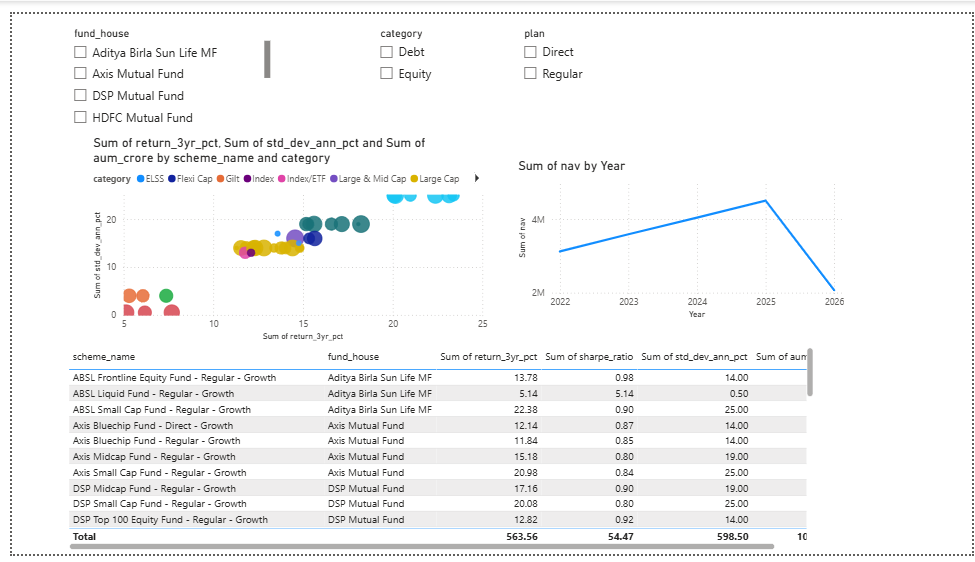

The page's visual inventory and layout, read from the dashboard file:
{"tool":"powerbi","page":{"name":"Fund Performance","canvas":[1280,720],"ordinal":1},"visuals":[{"type":"scatterChart","fields":{"X":["Sum(clean_performance.return_3yr_pct)"],"Y":["Sum(clean_performance.std_dev_ann_pct)"],"Size":["Sum(clean_performance.aum_crore)"],"Category":["clean_performance.scheme_name"],"Series":["clean_performance.category"]},"box":[103.9,161.9,536.1,279.5],"z":0},{"type":"tableEx","fields":{"Values":["clean_performance.scheme_name","clean_performance.fund_house","Sum(clean_performance.return_3yr_pct)","Sum(clean_performance.sharpe_ratio)","Sum(clean_performance.std_dev_ann_pct)","Sum(clean_performance.aum_crore)"]},"box":[70.3,439.9,1003.5,279.5],"z":1000},{"type":"lineChart","fields":{"Category":["clean_nav.date.Variation.Date Hierarchy.Year","clean_nav.date.Variation.Date Hierarchy.Quarter","clean_nav.date.Variation.Date Hierarchy.Month","clean_nav.date.Variation.Date Hierarchy.Day"],"Y":["Sum(clean_nav.nav)"]},"box":[670.5,192.5,444.5,220],"z":2000},{"type":"slicer","fields":{"Values":["clean_fund_master.fund_house"]},"box":[70.3,12.2,279.5,149.7],"z":3000},{"type":"slicer","fields":{"Values":["clean_fund_master.category"]},"box":[478.1,12.2,279.5,149.7],"z":4000},{"type":"slicer","fields":{"Values":["clean_fund_master.plan"]},"box":[670.5,12.2,279.5,149.7],"z":5000}]}

Visuals, with their boxes in screenshot pixels (x1, y1, x2, y2), scaled from the page's 1280x720 canvas onto the 975x562 screenshot:
scatterChart - Sum(clean_performance.return_3yr_pct) x Sum(clean_performance.std_dev_ann_pct): Rect(79, 126, 488, 345)
tableEx - clean_performance.scheme_name x clean_performance.fund_house: Rect(54, 343, 818, 561)
lineChart - clean_nav.date.Variation.Date Hierarchy.Year x clean_nav.date.Variation.Date Hierarchy.Quarter: Rect(511, 150, 849, 322)
slicer - clean_fund_master.fund_house: Rect(54, 10, 266, 126)
slicer - clean_fund_master.category: Rect(364, 10, 577, 126)
slicer - clean_fund_master.plan: Rect(511, 10, 724, 126)
